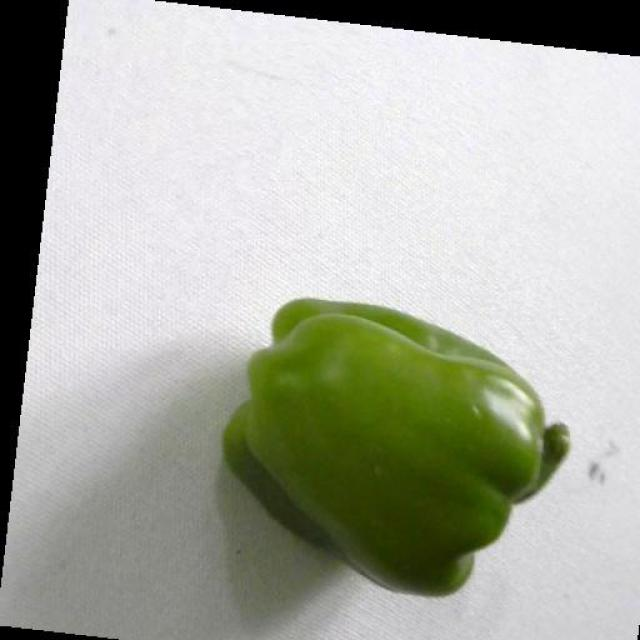Fresh_Capsicum: (263, 277, 571, 604)
